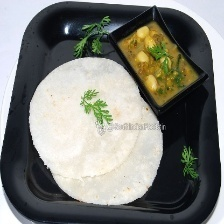sabzi: (118, 19, 199, 108)
